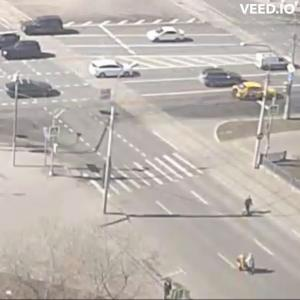car: (2, 41, 57, 63), (5, 80, 61, 100), (92, 61, 137, 80), (148, 25, 193, 44), (231, 83, 278, 101), (23, 17, 65, 37), (203, 67, 244, 86), (258, 54, 300, 72), (1, 34, 21, 55)
